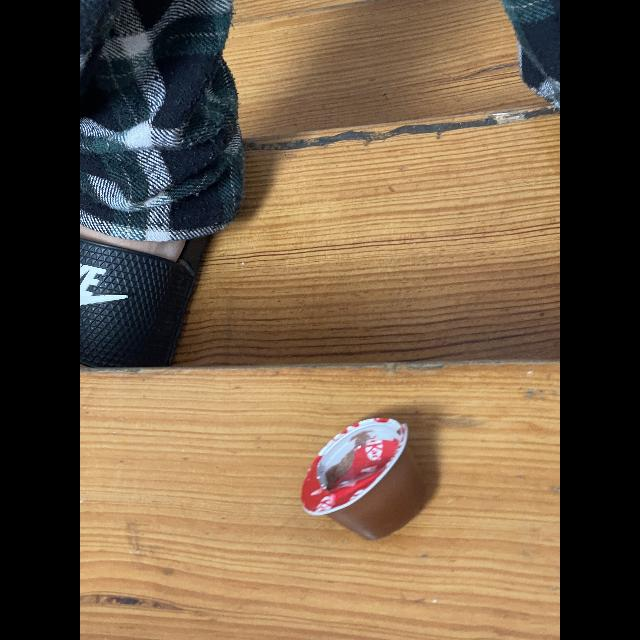damaged_capsule: (288, 409, 447, 547)
